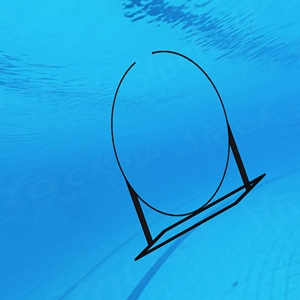circle: (110, 49, 268, 262)
